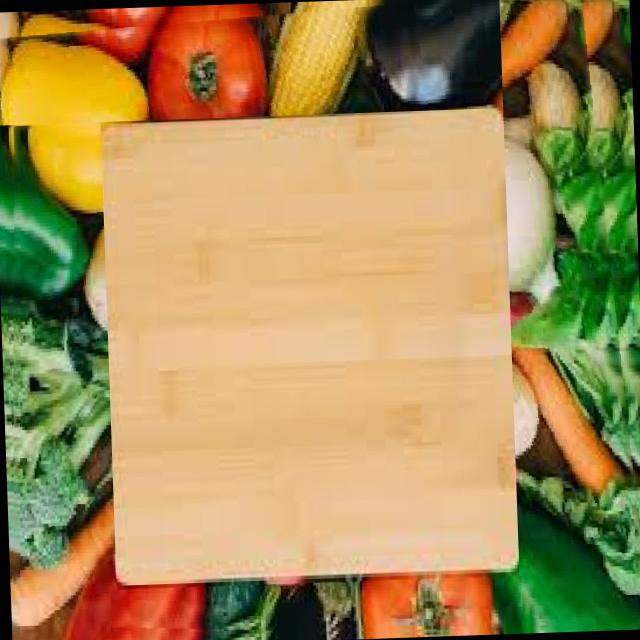Organic: (498, 0, 640, 633), (0, 0, 496, 123), (0, 120, 117, 640), (109, 574, 522, 640)
